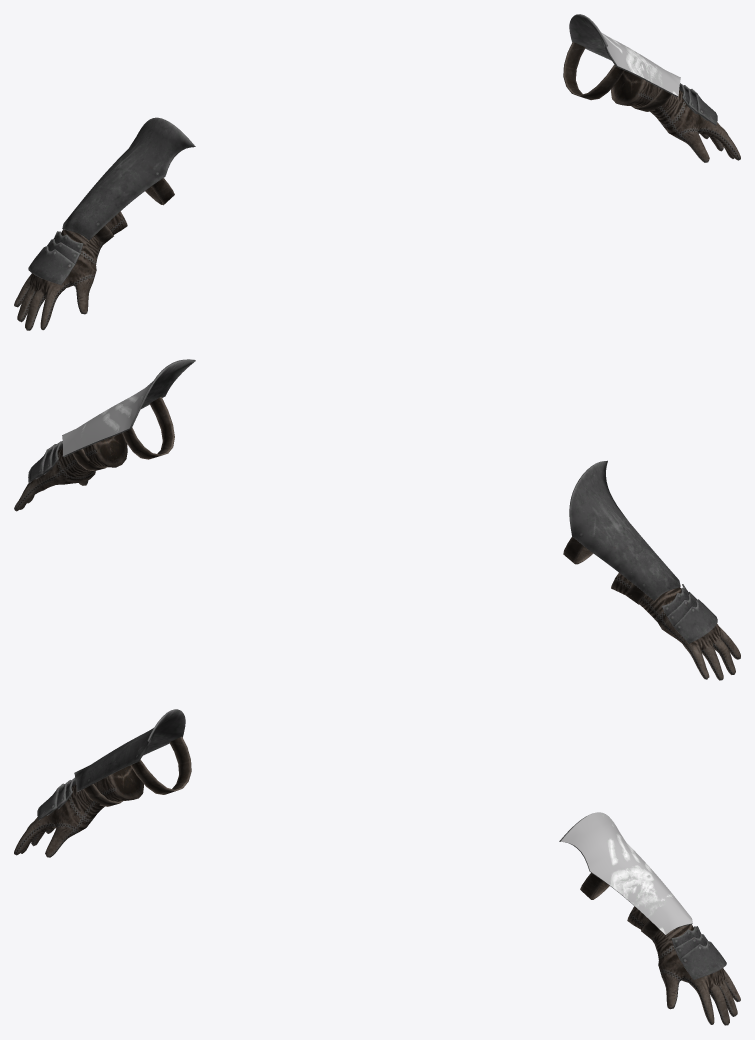
File: sk_uruk_hai_bracer_heavy_a2.fbx
The picture shows the model from 3 angles, top to bottom: view 1: azimuth 30°, elevation 25°; view 2: azimuth 150°, elevation 25°; view 3: azimuth 330°, elevation 25°; orthographic projection.
Parts seen in each view (by area): view 1: sk_uruk_hai_bracer_heavy_a2.1, sk_uruk_hai_bracer_heavy_a2.0, sk_uruk_hai_bracer_heavy_a2.2; view 2: sk_uruk_hai_bracer_heavy_a2.0, sk_uruk_hai_bracer_heavy_a2.1, sk_uruk_hai_bracer_heavy_a2.2; view 3: sk_uruk_hai_bracer_heavy_a2.1, sk_uruk_hai_bracer_heavy_a2.2, sk_uruk_hai_bracer_heavy_a2.0.
Boxes of the visible parts, x1,y1,x2,y2 form: sk_uruk_hai_bracer_heavy_a2.1: (14,42,740,330); sk_uruk_hai_bracer_heavy_a2.0: (28,14,717,285); sk_uruk_hai_bracer_heavy_a2.2: (575,14,680,96); sk_uruk_hai_bracer_heavy_a2.0: (28,359,717,643); sk_uruk_hai_bracer_heavy_a2.1: (14,397,740,680); sk_uruk_hai_bracer_heavy_a2.2: (62,359,194,456); sk_uruk_hai_bracer_heavy_a2.1: (14,736,740,1025); sk_uruk_hai_bracer_heavy_a2.2: (560,812,692,934); sk_uruk_hai_bracer_heavy_a2.0: (37,709,726,979).
Bounding box in the file's own units: 1.59 × 0.1963 × 0.3716.
Materials: 3 (3 with a texture image).
